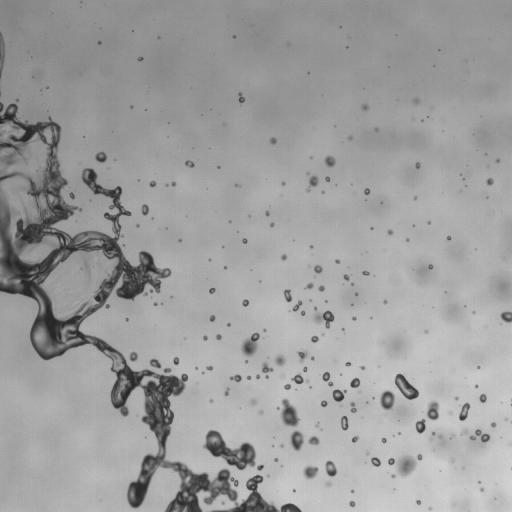droplet: (387, 454, 422, 477), (276, 398, 299, 426), (313, 307, 334, 328), (241, 332, 259, 356), (290, 430, 304, 450), (380, 390, 394, 409), (426, 400, 439, 420), (470, 429, 489, 442), (303, 465, 318, 479), (325, 460, 337, 476), (292, 373, 309, 384), (261, 362, 273, 377), (332, 389, 346, 401), (322, 372, 333, 386), (415, 419, 425, 433), (324, 156, 335, 167), (500, 311, 511, 322), (95, 152, 107, 162), (297, 350, 307, 362), (149, 358, 161, 368), (275, 354, 285, 365), (283, 289, 291, 302), (350, 378, 360, 388), (308, 436, 319, 445), (341, 416, 348, 430), (230, 374, 241, 382), (371, 457, 380, 466), (141, 204, 148, 215), (129, 352, 137, 361), (314, 265, 322, 273), (185, 160, 194, 167), (350, 402, 356, 412), (479, 394, 486, 402), (239, 92, 244, 102), (486, 178, 493, 185), (149, 180, 156, 187), (242, 299, 249, 306), (305, 283, 313, 289), (173, 357, 179, 365), (270, 137, 276, 144), (311, 336, 318, 342), (284, 383, 291, 389), (362, 104, 368, 110), (364, 188, 370, 194), (387, 229, 393, 235), (343, 274, 349, 280), (318, 285, 324, 291), (209, 315, 215, 321), (250, 399, 256, 405), (321, 400, 327, 406), (352, 436, 358, 442), (224, 388, 229, 395), (413, 98, 418, 104), (415, 162, 420, 168), (69, 192, 74, 198), (281, 254, 286, 260), (209, 288, 215, 293), (216, 334, 221, 340), (461, 429, 467, 434), (349, 501, 355, 506), (362, 271, 369, 275), (325, 176, 330, 181), (242, 238, 247, 243), (491, 422, 496, 427), (381, 437, 386, 442), (206, 366, 212, 370), (325, 482, 331, 486), (171, 181, 175, 186), (270, 222, 274, 227), (428, 264, 432, 269), (301, 310, 305, 315), (203, 335, 207, 340), (315, 422, 319, 427), (348, 136, 352, 140), (281, 181, 285, 185), (265, 211, 269, 215), (335, 259, 339, 263), (352, 316, 356, 320), (438, 434, 442, 438), (391, 474, 395, 478), (416, 500, 420, 504), (345, 362, 350, 365), (138, 57, 142, 60), (374, 128, 378, 131), (303, 367, 306, 371), (360, 366, 364, 369), (259, 410, 263, 413), (413, 196, 416, 199), (447, 236, 450, 239), (383, 300, 386, 303), (227, 323, 230, 326), (256, 375, 259, 378), (247, 376, 250, 379), (455, 396, 458, 399), (209, 399, 212, 402), (432, 433, 435, 436), (451, 459, 454, 462), (480, 488, 483, 491), (221, 501, 224, 504), (233, 35, 235, 38), (98, 41, 100, 44), (496, 159, 499, 161), (406, 238, 408, 241), (310, 245, 312, 248), (154, 302, 156, 305), (472, 311, 475, 313), (263, 329, 266, 331), (425, 330, 427, 333), (311, 357, 314, 359), (475, 385, 478, 387), (275, 458, 277, 461), (351, 490, 354, 492), (166, 184, 168, 186), (17, 212, 19, 214), (178, 239, 180, 241), (98, 265, 100, 267), (126, 318, 128, 320), (358, 390, 360, 392), (449, 412, 451, 414), (281, 444, 283, 446), (428, 507, 430, 509)
ligament: (0, 102, 301, 511), (203, 431, 263, 470), (394, 373, 418, 399), (81, 257, 92, 281), (459, 403, 470, 420), (0, 33, 4, 78), (306, 176, 318, 191), (292, 300, 301, 311), (510, 442, 511, 445)
